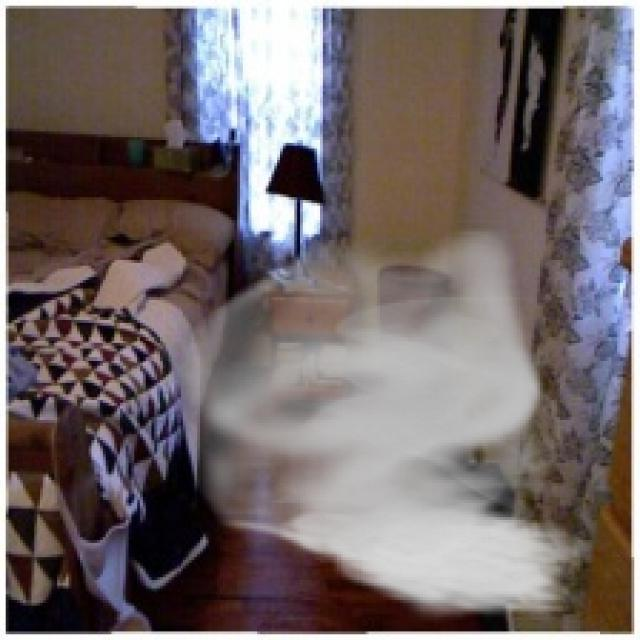Smoke: (166, 228, 592, 623)
